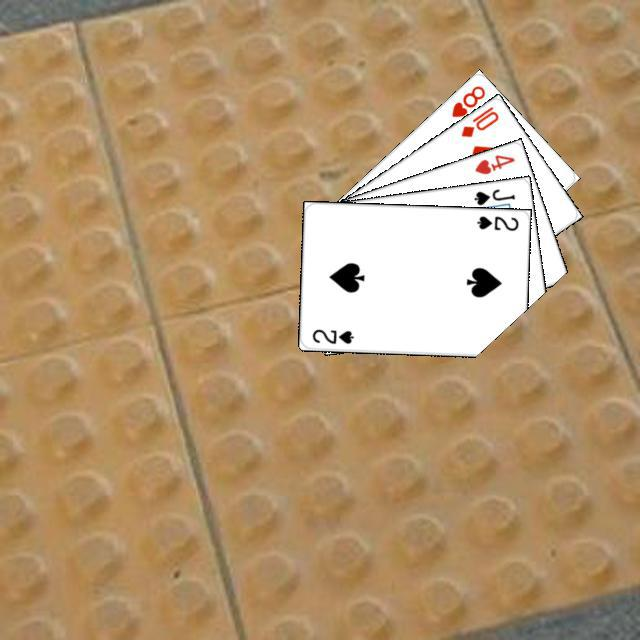10d: (456, 101, 500, 139)
2s: (472, 211, 520, 233), (307, 324, 355, 346)
4h: (470, 150, 516, 176)
8h: (447, 81, 487, 119)
Js: (469, 184, 517, 207)
